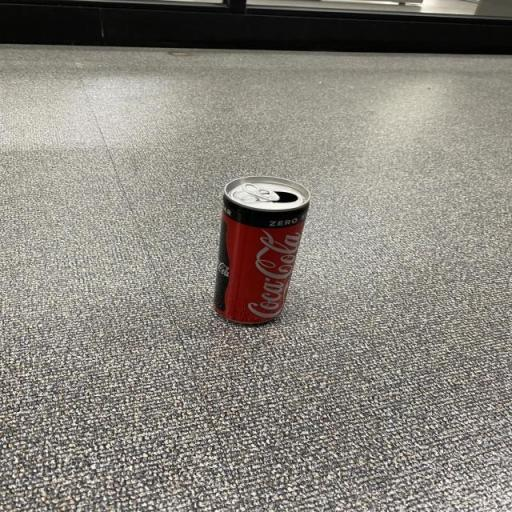metal: (202, 164, 320, 336)
